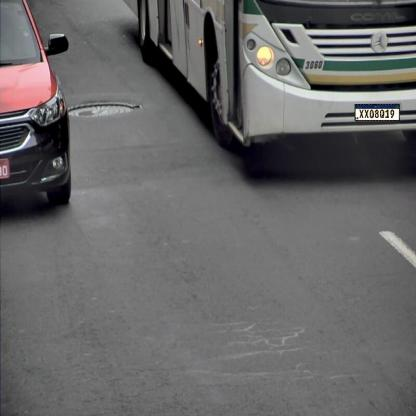PlacaM: (355, 104, 400, 121)
